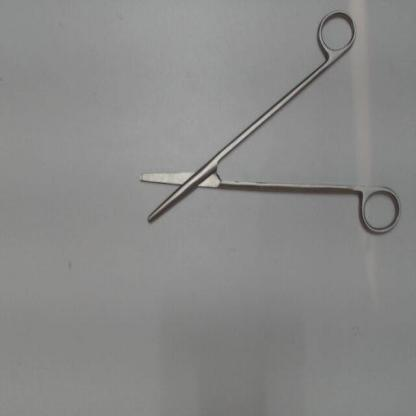9 Metzenbaum Scissors: (132, 3, 406, 242)
